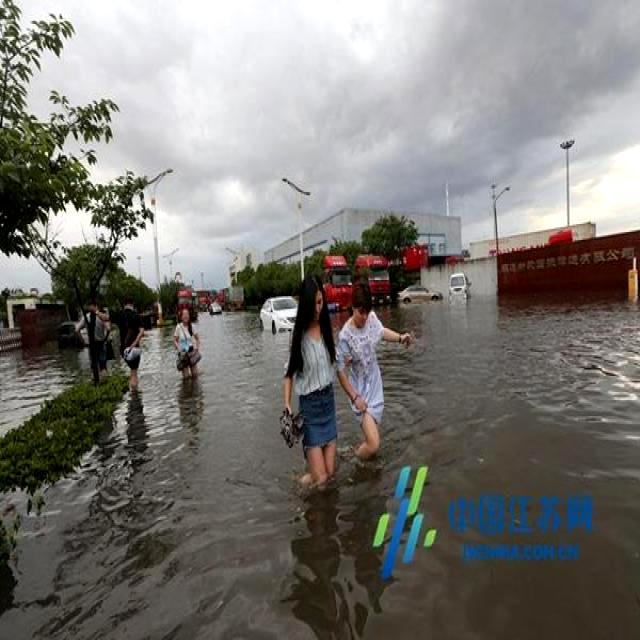civilian: (275, 264, 343, 491), (335, 274, 399, 466), (106, 288, 150, 386), (173, 305, 209, 397)
